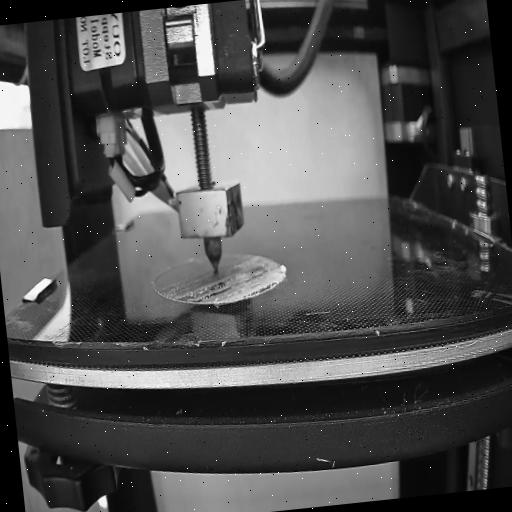under_extrusion: (178, 277, 237, 305), (244, 262, 276, 296)
